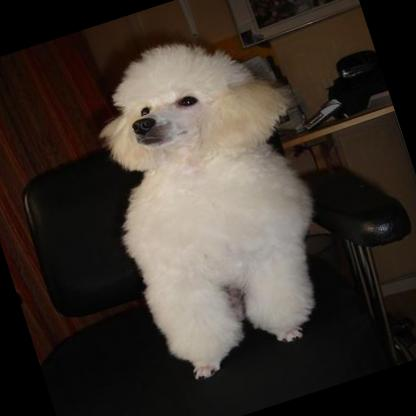toy_poodle: (64, 8, 366, 391)
